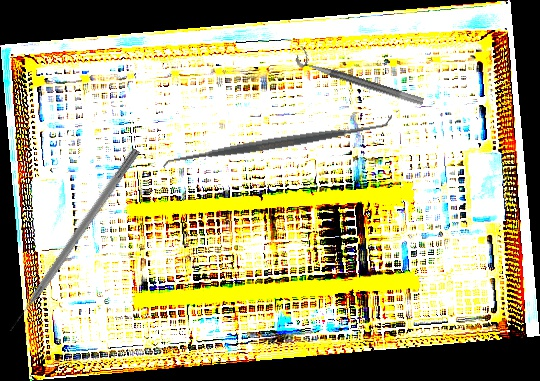Fixation Ring: (294, 45, 428, 107)
Pusher: (4, 146, 141, 334)
Spatula Surgical: (160, 110, 396, 175)
